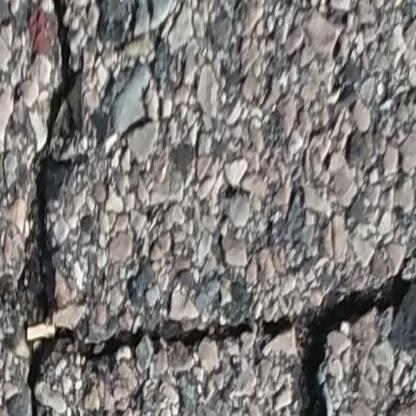Cracks: (0, 0, 416, 416), (117, 73, 162, 166), (112, 0, 150, 58)
